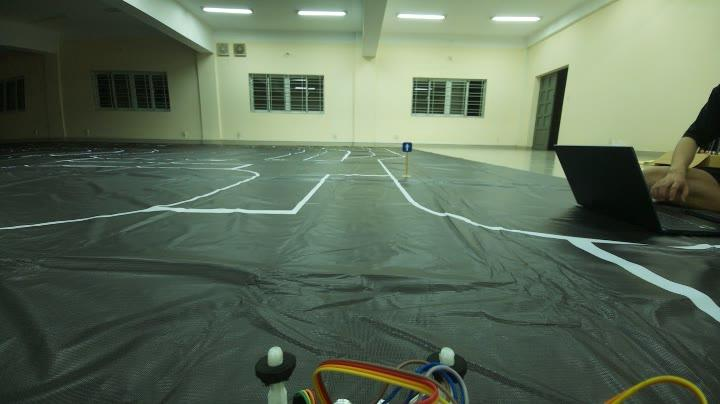onewayroad: (398, 138, 416, 156)
